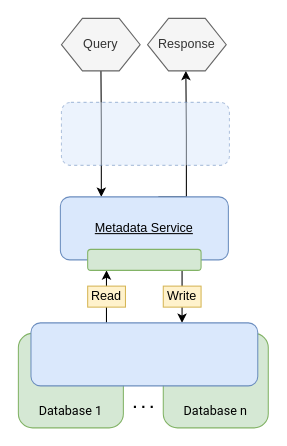
Image size: 287x446. Some labels were removed from this diagram. The centre of each missing label's shape, as x and y in pixels:
"API Specification" goes at (144,133).
"Authentication" goes at (144,259).
"Metadata Representation" goes at (144,354).
